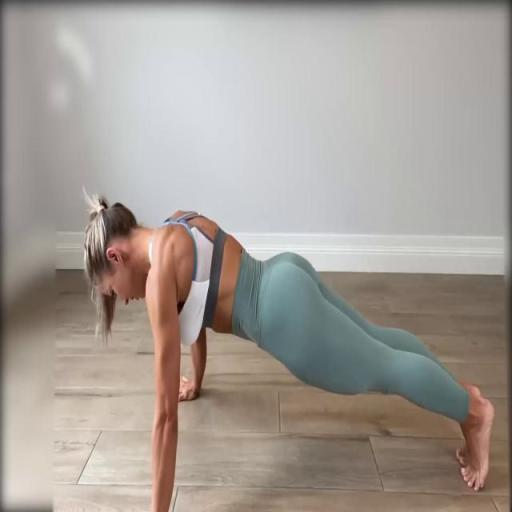Normal_BrenchPress: (81, 191, 496, 508)
